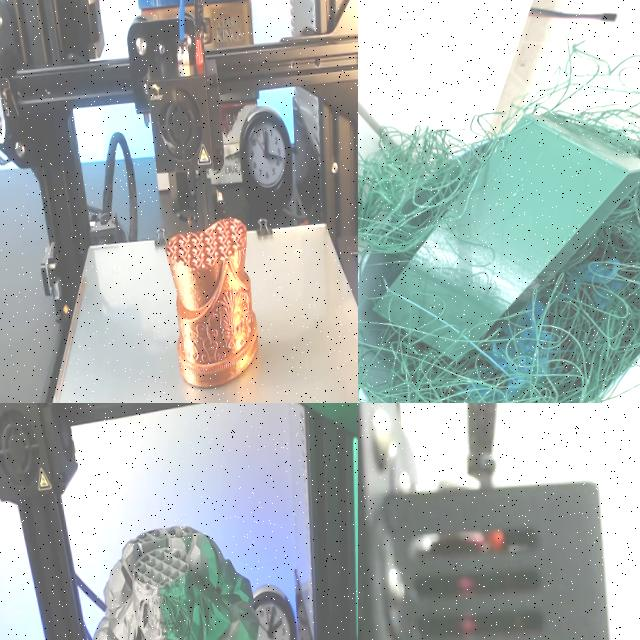spaghetti: (358, 170, 640, 403), (358, 113, 489, 268), (520, 23, 640, 182)
